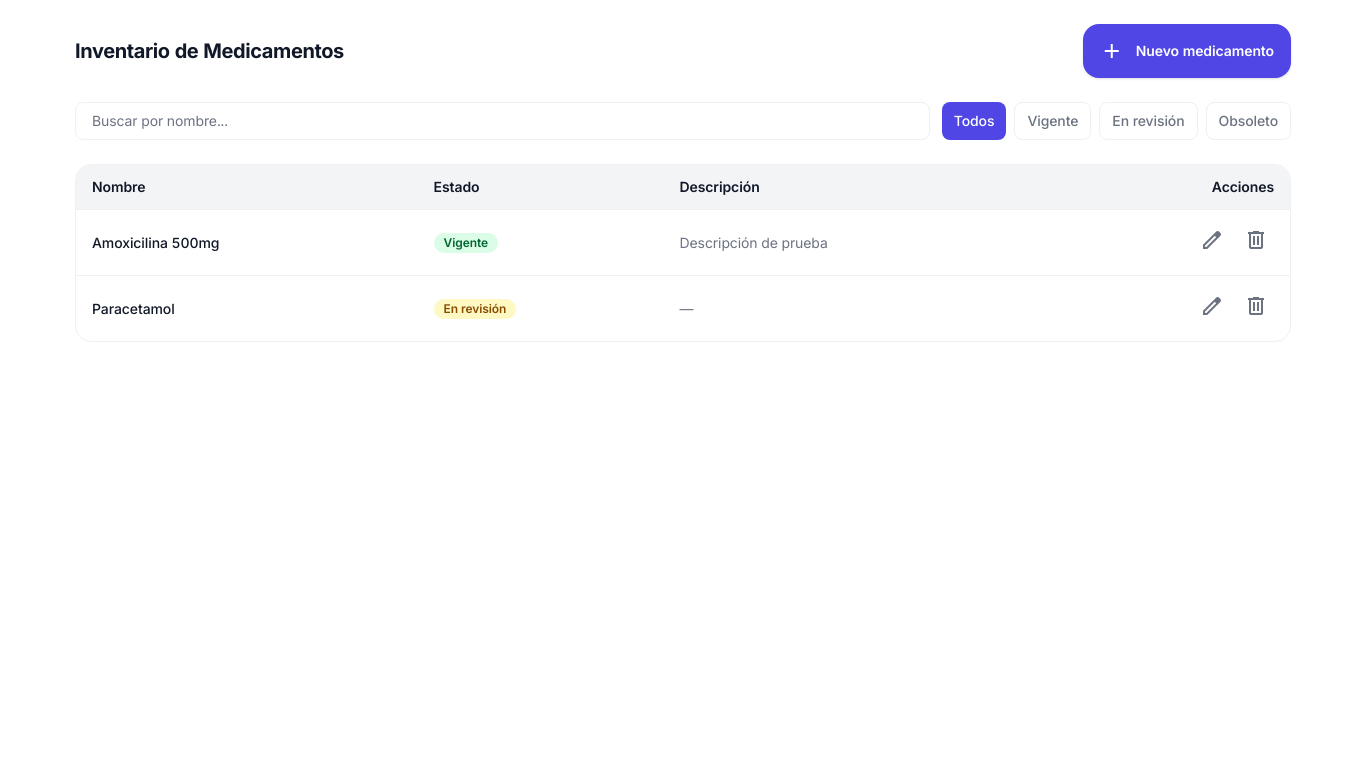
Test: InventoryPage › edit modal › updates the medicamento and closes the modal
Expected: the text "Amoxicilina 500mg" is shown, [76, 210, 418, 276]
Click the button named "Editar" in the row of "Amoxicilina 500mg". click: (1212, 242)
box: [1194, 222, 1230, 263]
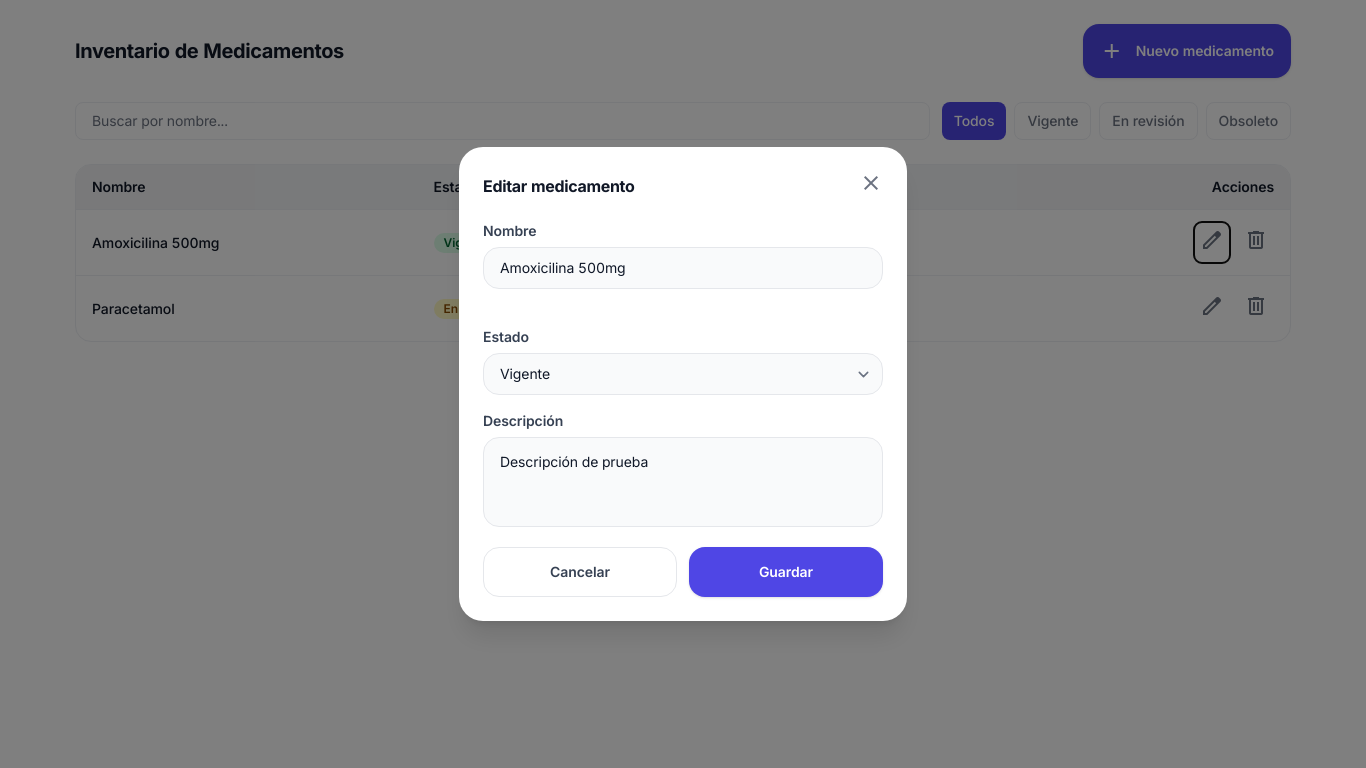
Select "Obsoleto" in the dropdown labelled "Estado". click: (683, 374)
box: [483, 353, 883, 395]
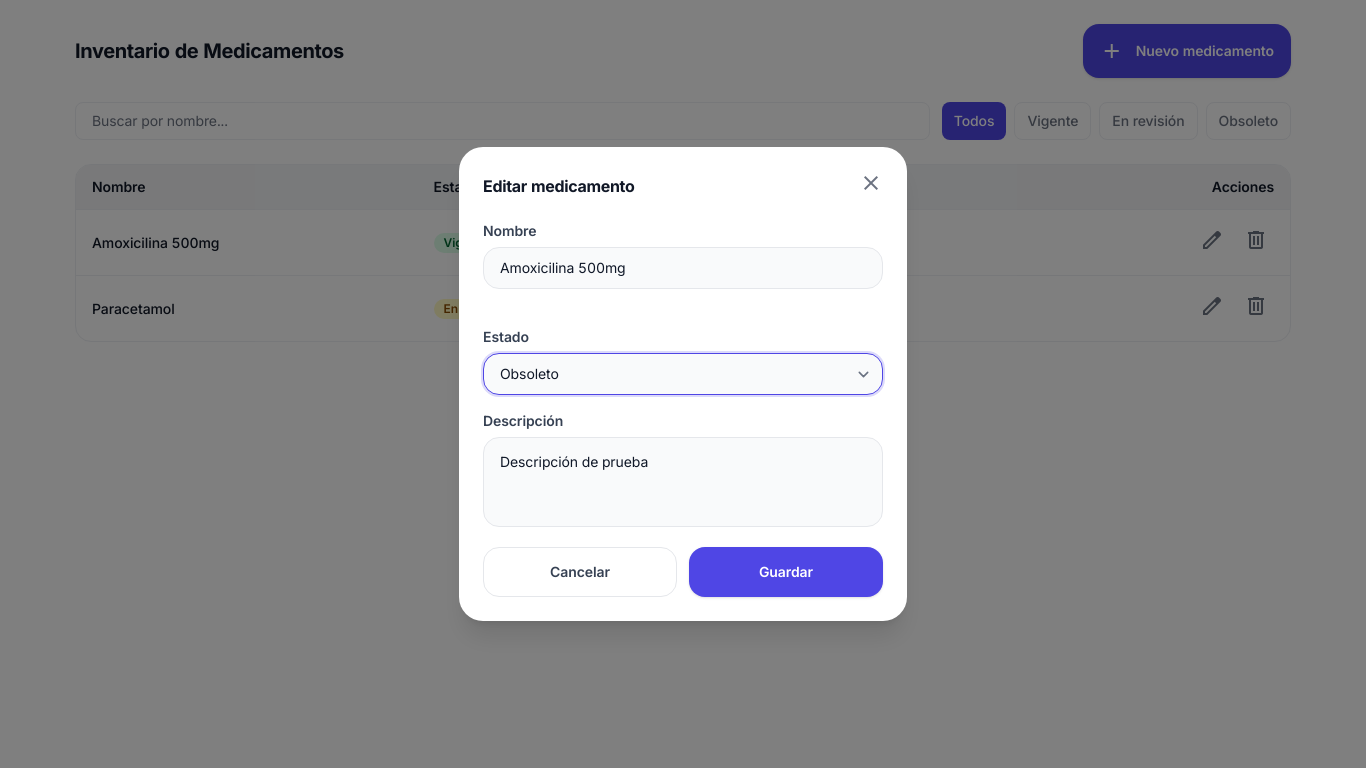
Click the button "Guardar". click: (786, 572)
box: [689, 547, 883, 597]
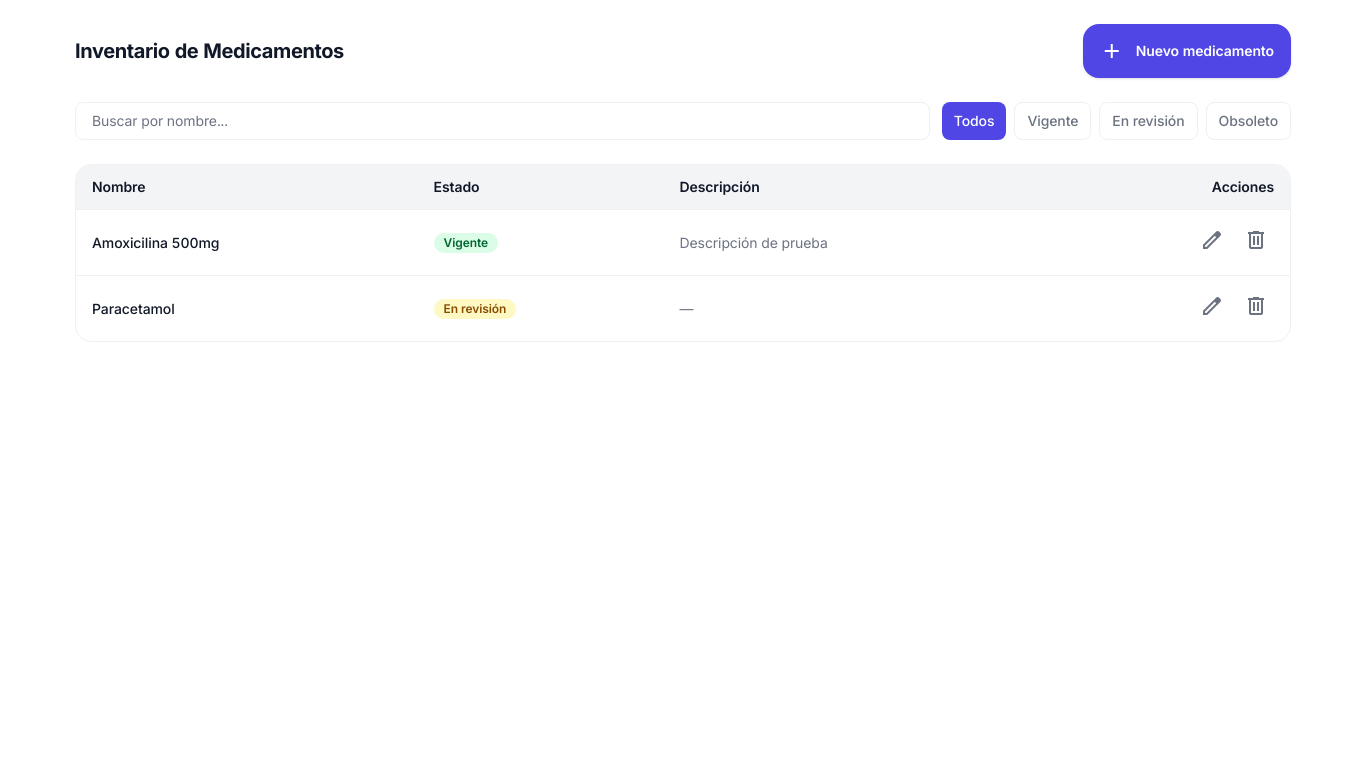
Now the heading "Editar medicamento" is gone
